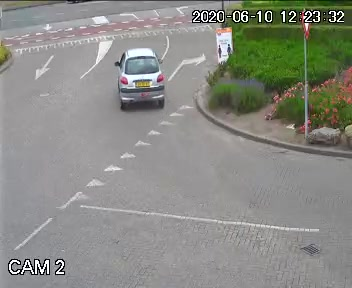car: (98, 38, 170, 121)
